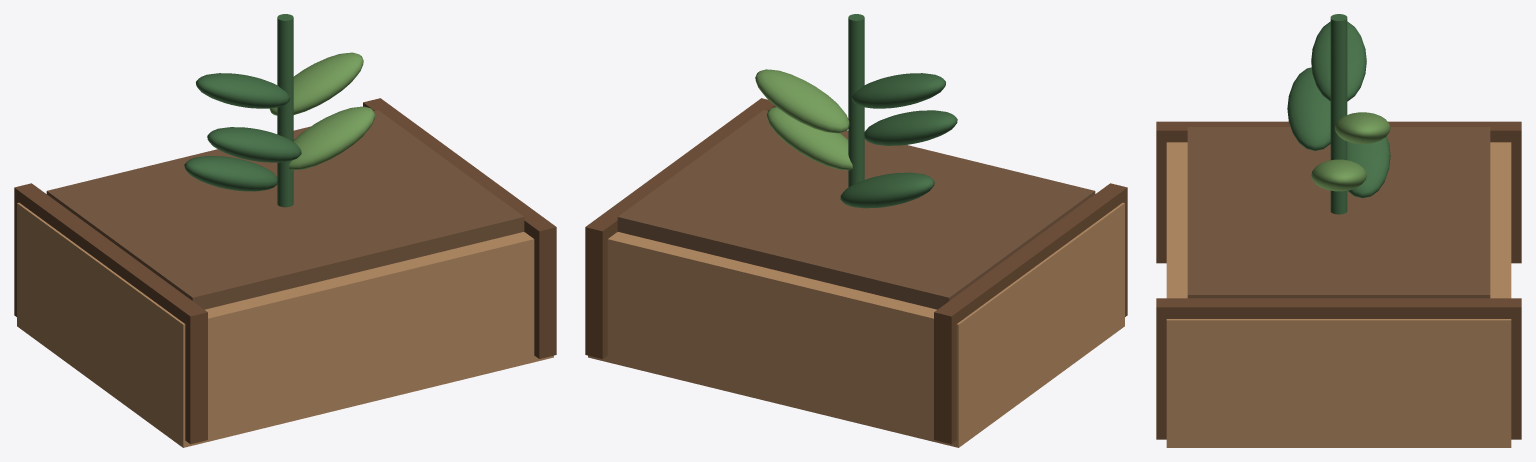
File: leafy.glb
3 views of the same model, side by side, from view 1: azimuth 30°, elevation 25°; view 2: azimuth 150°, elevation 25°; view 3: azimuth 270°, elevation 25° (orthographic). The views are drawn at different scales.
Visible parts, largest first — view 1: wood box, soil box, trim box (×2), leaf sphere (×3), lightLeaf sphere (×2), leaf cylinder; view 2: wood box, soil box, trim box (×2), leaf sphere (×3), lightLeaf sphere (×2), leaf cylinder; view 3: wood box, soil box, trim box (×2), leaf sphere (×3), lightLeaf sphere (×2), leaf cylinder.
Boxes of the visible parts, x1=… form: wood box: x1=17, y1=202, x2=553, y2=447; soil box: x1=46, y1=110, x2=524, y2=309; trim box (×2): x1=14, y1=98, x2=556, y2=444; leaf sphere (×3): x1=184, y1=73, x2=301, y2=191; lightLeaf sphere (×2): x1=269, y1=52, x2=374, y2=170; leaf cylinder: x1=277, y1=14, x2=293, y2=207; wood box: x1=588, y1=202, x2=1124, y2=447; soil box: x1=617, y1=110, x2=1095, y2=309; trim box (×2): x1=585, y1=98, x2=1127, y2=444; leaf sphere (×3): x1=840, y1=73, x2=957, y2=208; lightLeaf sphere (×2): x1=755, y1=69, x2=852, y2=170; leaf cylinder: x1=848, y1=14, x2=864, y2=207; wood box: x1=1166, y1=142, x2=1511, y2=447; soil box: x1=1187, y1=127, x2=1490, y2=298; trim box (×2): x1=1156, y1=121, x2=1521, y2=439; leaf sphere (×3): x1=1287, y1=21, x2=1390, y2=198; lightLeaf sphere (×2): x1=1311, y1=112, x2=1390, y2=191; leaf cylinder: x1=1330, y1=14, x2=1347, y2=214.
Size of the model in its own units: 0.85 by 0.711 by 0.7.
